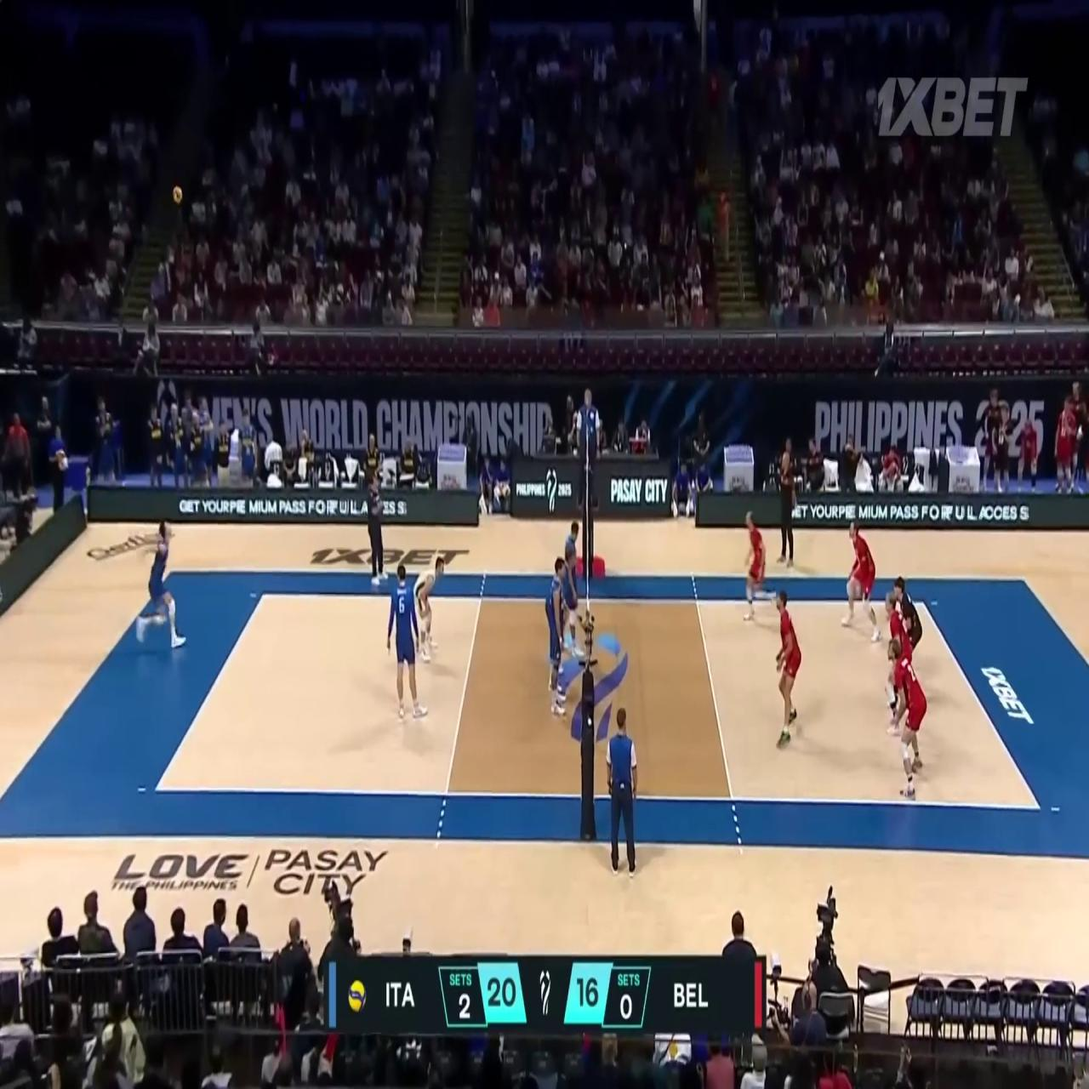ball: (174, 184, 183, 203)
